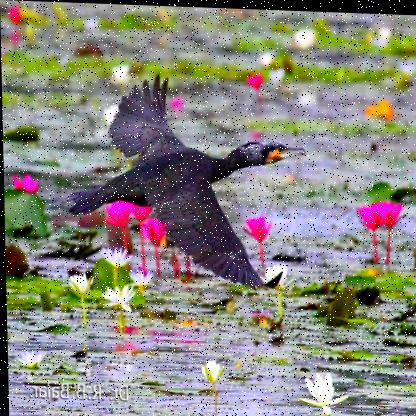Burung: (62, 75, 307, 281)
